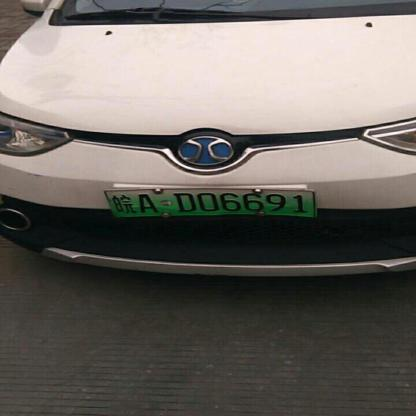lp: (103, 190, 314, 217)
